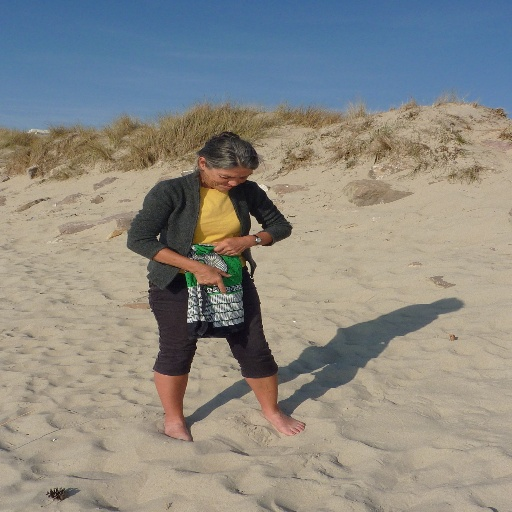hand: (160, 256, 239, 286), (212, 238, 249, 258)
